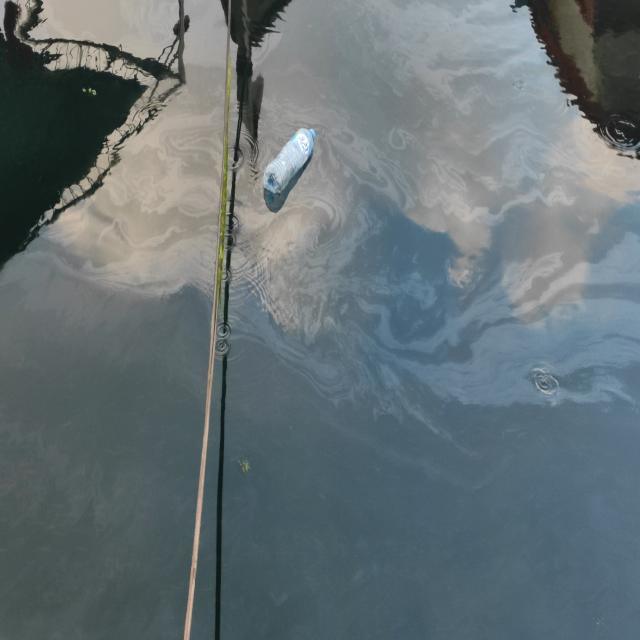Plastic bottle: (262, 125, 316, 195)
